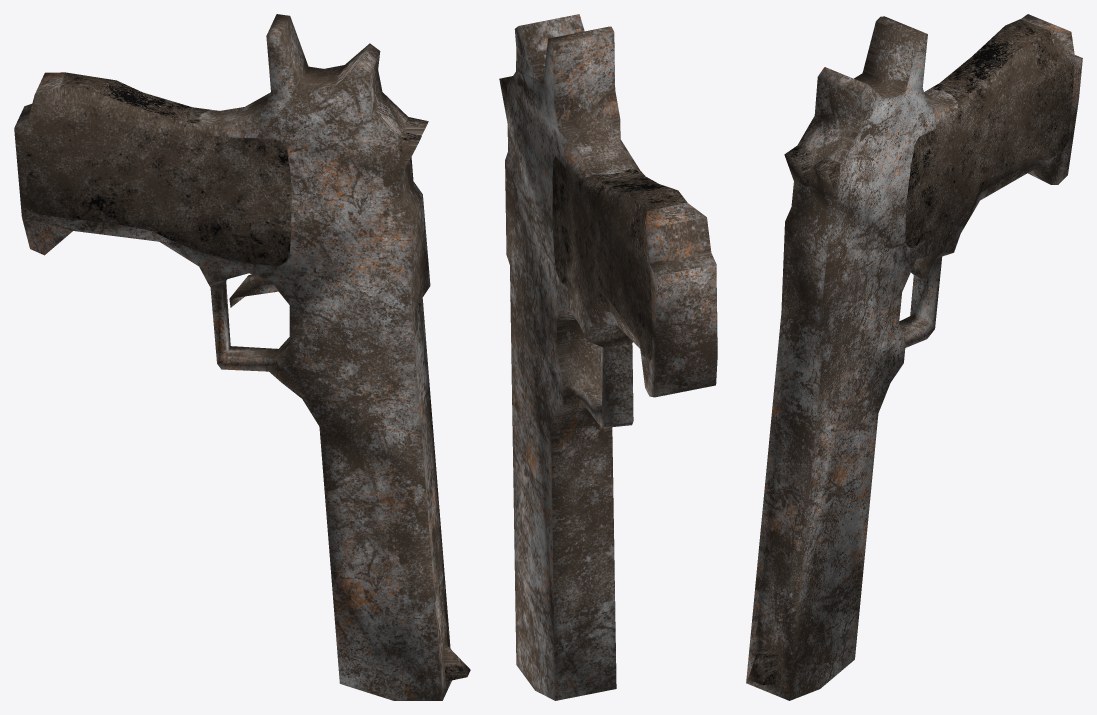
The model's file is Anim_idle_pistola_objetos.0024.obj.
3 renders of one model, left to right at view 1: azimuth 30°, elevation 25°; view 2: azimuth 150°, elevation 25°; view 3: azimuth 270°, elevation 25°, orthographic. The views are drawn at different scales.
Visible parts, largest first — view 1: Pistola1; view 2: Pistola1; view 3: Pistola1.
Boxes of the visible parts, left/top/right/bottom form: Pistola1: left=14, top=14, right=470, bottom=700; Pistola1: left=499, top=14, right=717, bottom=700; Pistola1: left=746, top=14, right=1082, bottom=700.
Bounding box in the file's own units: 0.8593 × 1.69 × 0.8264.
